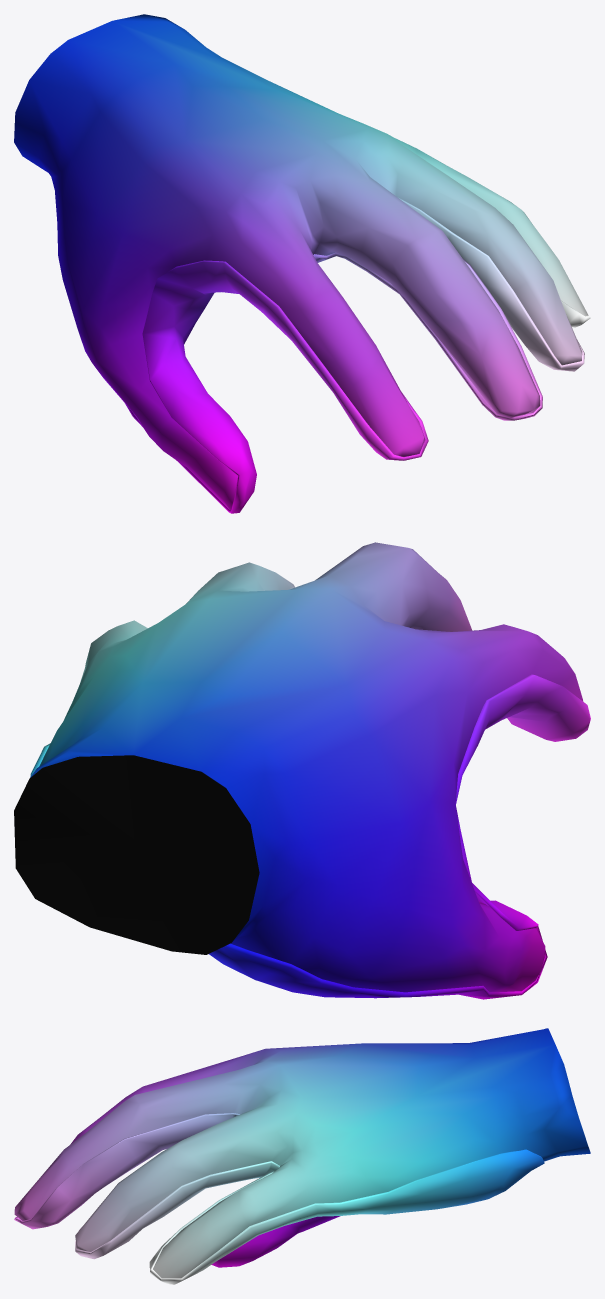
The model's file is combineLeft.fbx.
3 views of the same model, one above another, from view 1: azimuth 30°, elevation 25°; view 2: azimuth 150°, elevation 25°; view 3: azimuth 270°, elevation 25° (orthographic). The views are drawn at different scales.
Visible parts, largest first — view 1: LeftHand, LeftHandPaint; view 2: LeftHand, LeftHandPaint; view 3: LeftHand, LeftHandPaint.
Boxes of the visible parts, x1,y1,x2,y2 form: LeftHand: (14,14,588,510); LeftHandPaint: (125,196,590,513); LeftHand: (14,542,583,992); LeftHandPaint: (30,587,590,999); LeftHand: (14,1028,590,1278); LeftHandPaint: (14,1113,544,1284).
Bounding box in the file's own units: 12.15 × 9.69 × 19.74.
